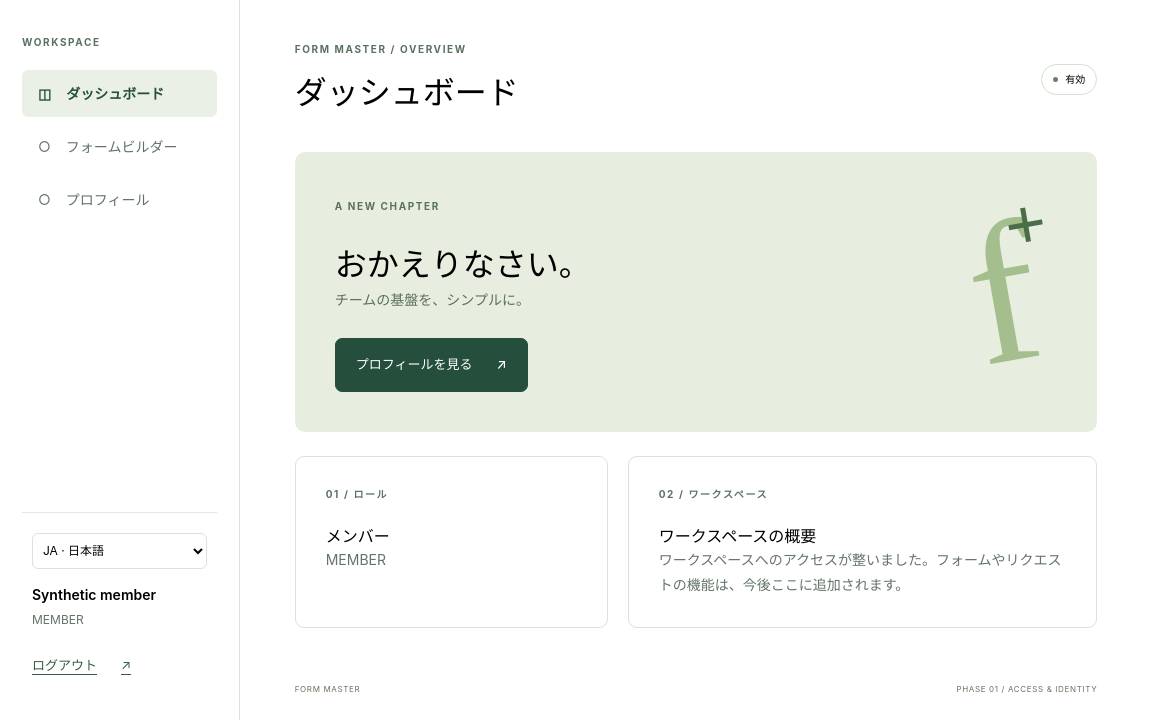
it: authentication shell › expired server session returns to sign in without redirect loop
Expected: the heading "おかえりなさい。" is shown, [335,241,591,289]
Click the link "○ プロフィール" at (94, 200), box [38,191,150,208]
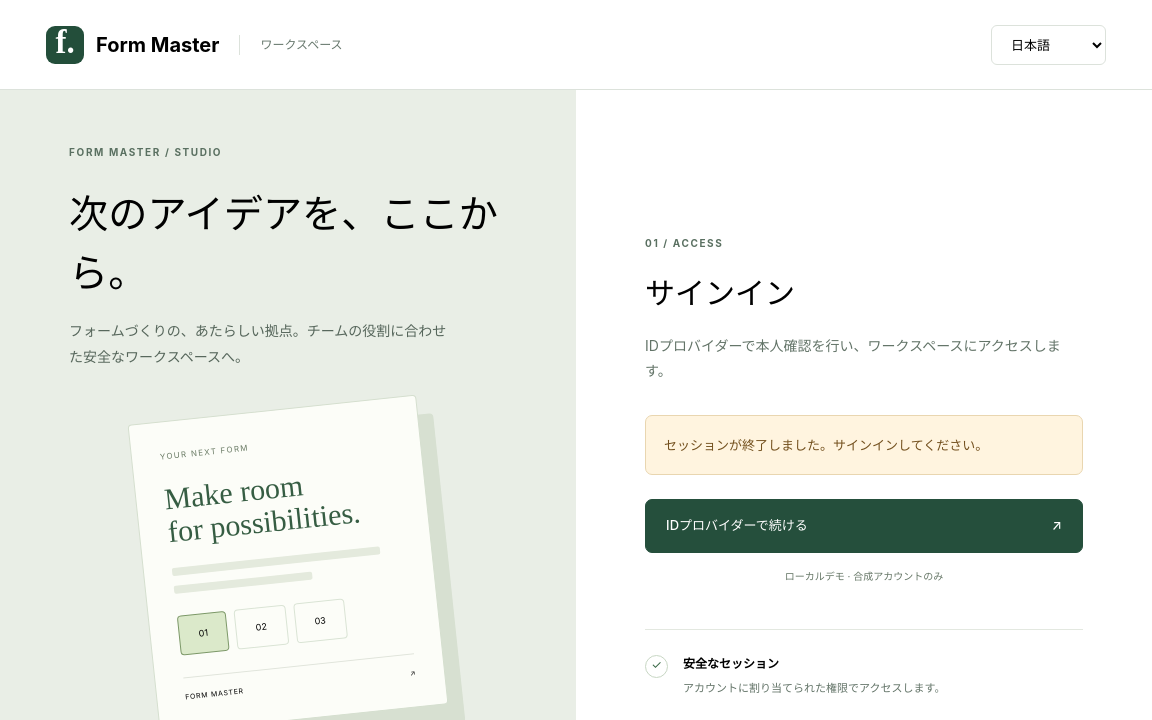
Now the link "IDプロバイダーで続ける ↗" is shown, box [645,499,1083,553]
Now the message reads "セッションが終了しました。サインインしてください。", box [664,437,988,453]
